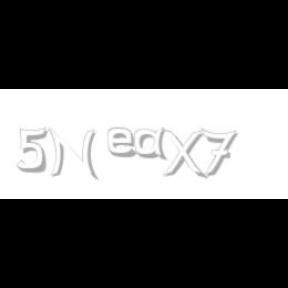5: (16, 128, 48, 174)
7: (200, 128, 237, 178)
N: (48, 128, 96, 180)
X: (161, 128, 205, 180)
a: (134, 128, 172, 160)
e: (108, 128, 140, 158)
